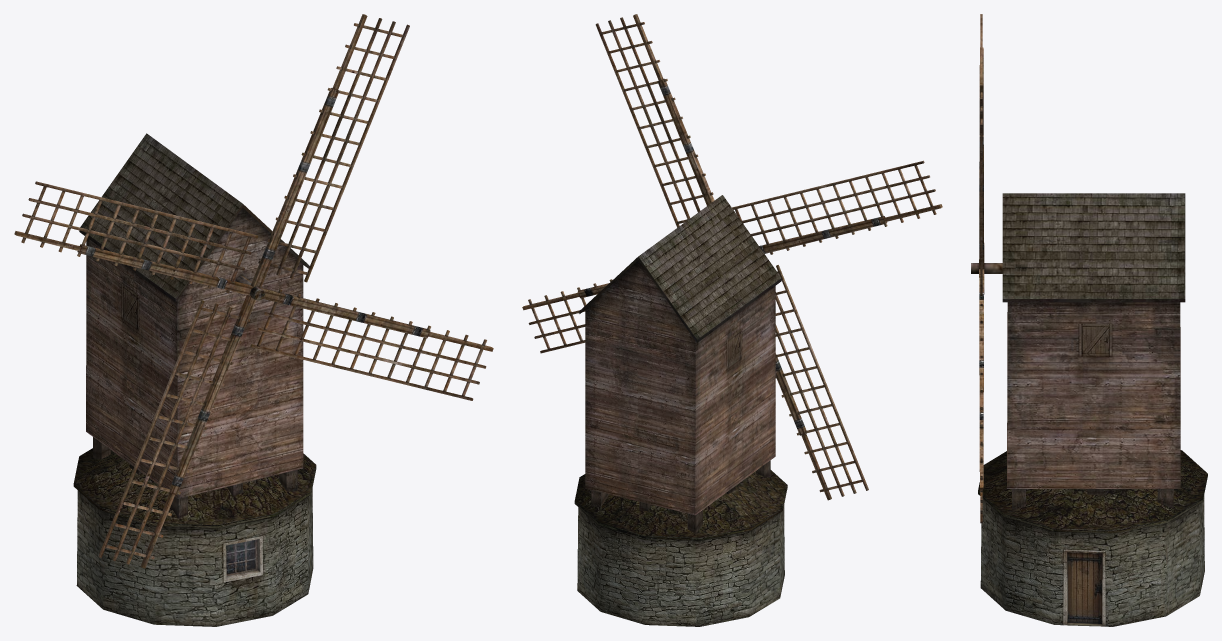
File: windmill.obj
3 views of the same model, side by side, from view 1: azimuth 30°, elevation 25°; view 2: azimuth 150°, elevation 25°; view 3: azimuth 270°, elevation 25° (orthographic). The views are drawn at different scales.
Visible parts, largest first — view 1: WindMill; view 2: WindMill; view 3: WindMill.
Part boxes in pixels (x1,y1,x2,y2): WindMill: [14, 14, 493, 626]; WindMill: [522, 14, 942, 626]; WindMill: [971, 14, 1207, 626].
Bounding box in the file's own units: 1331 × 1541 × 603.
Materials: 1 (1 with a texture image).
